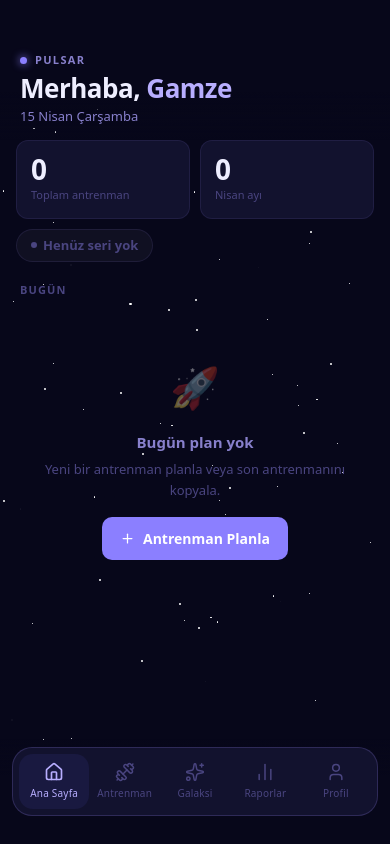
Test case: Antrenman Düzenle & Sil Akışı › Düzenle butonuna tıklanınca form açılır ve mevcut başlık doldurulmuş gelir
Click the button with test id "tab-workout" at (124, 782), box [89,754,159,809]
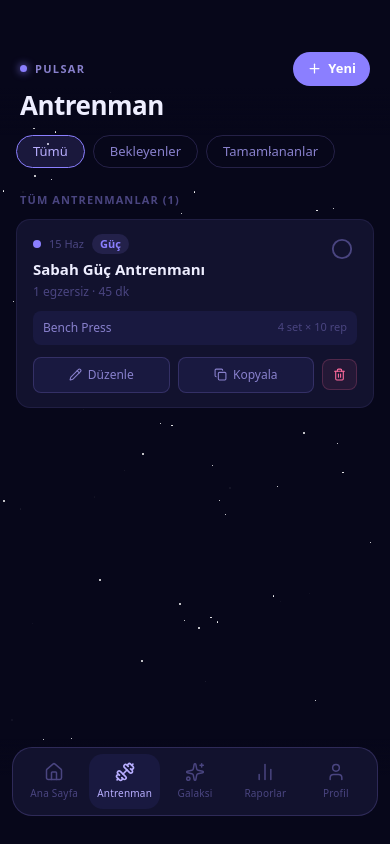
expect the heading "Antrenman" is shown: met, box [20,86,164,122]
expect the element with test id "workout-card" is shown: met, box [16,219,374,408]
Click the button with test id "workout-edit-btn" at (102, 375), box [33,357,170,393]
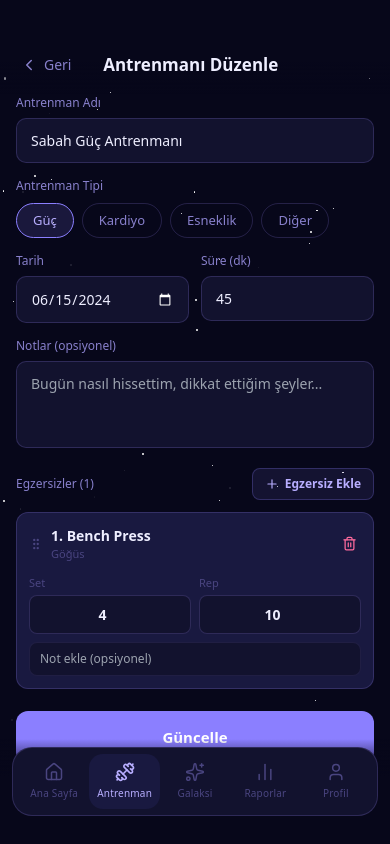
expect the heading "Antrenmanı Düzenle" is shown: met, box [103,52,278,78]
expect the field with test id "workout-title-input" holds "Sabah Güç Antrenmanı": met, box [16,118,374,163]
